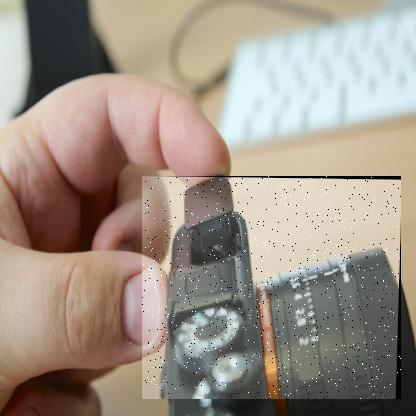Camera: (143, 177, 403, 401)
